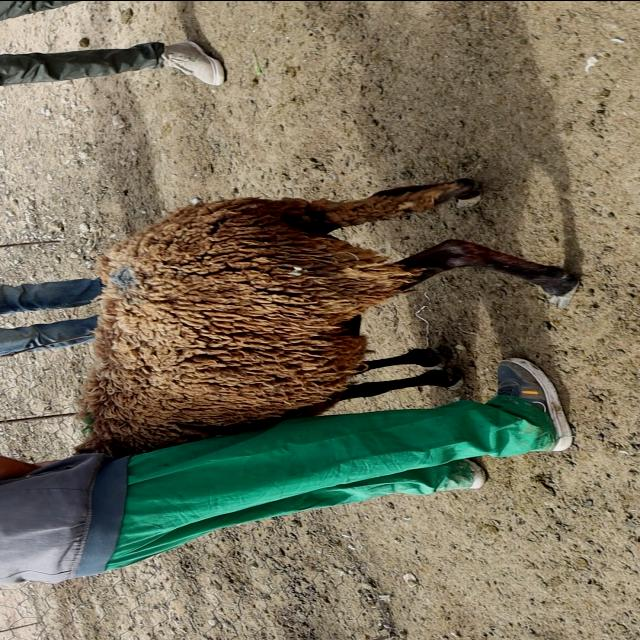Score_1: (75, 177, 578, 456)
